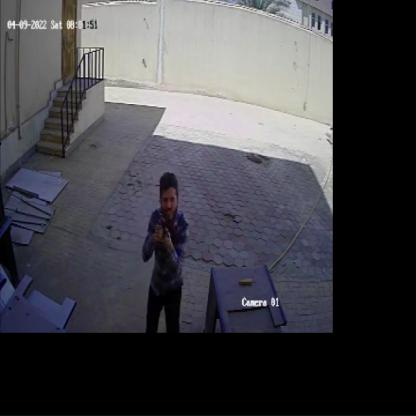handgun: (155, 213, 174, 244)
